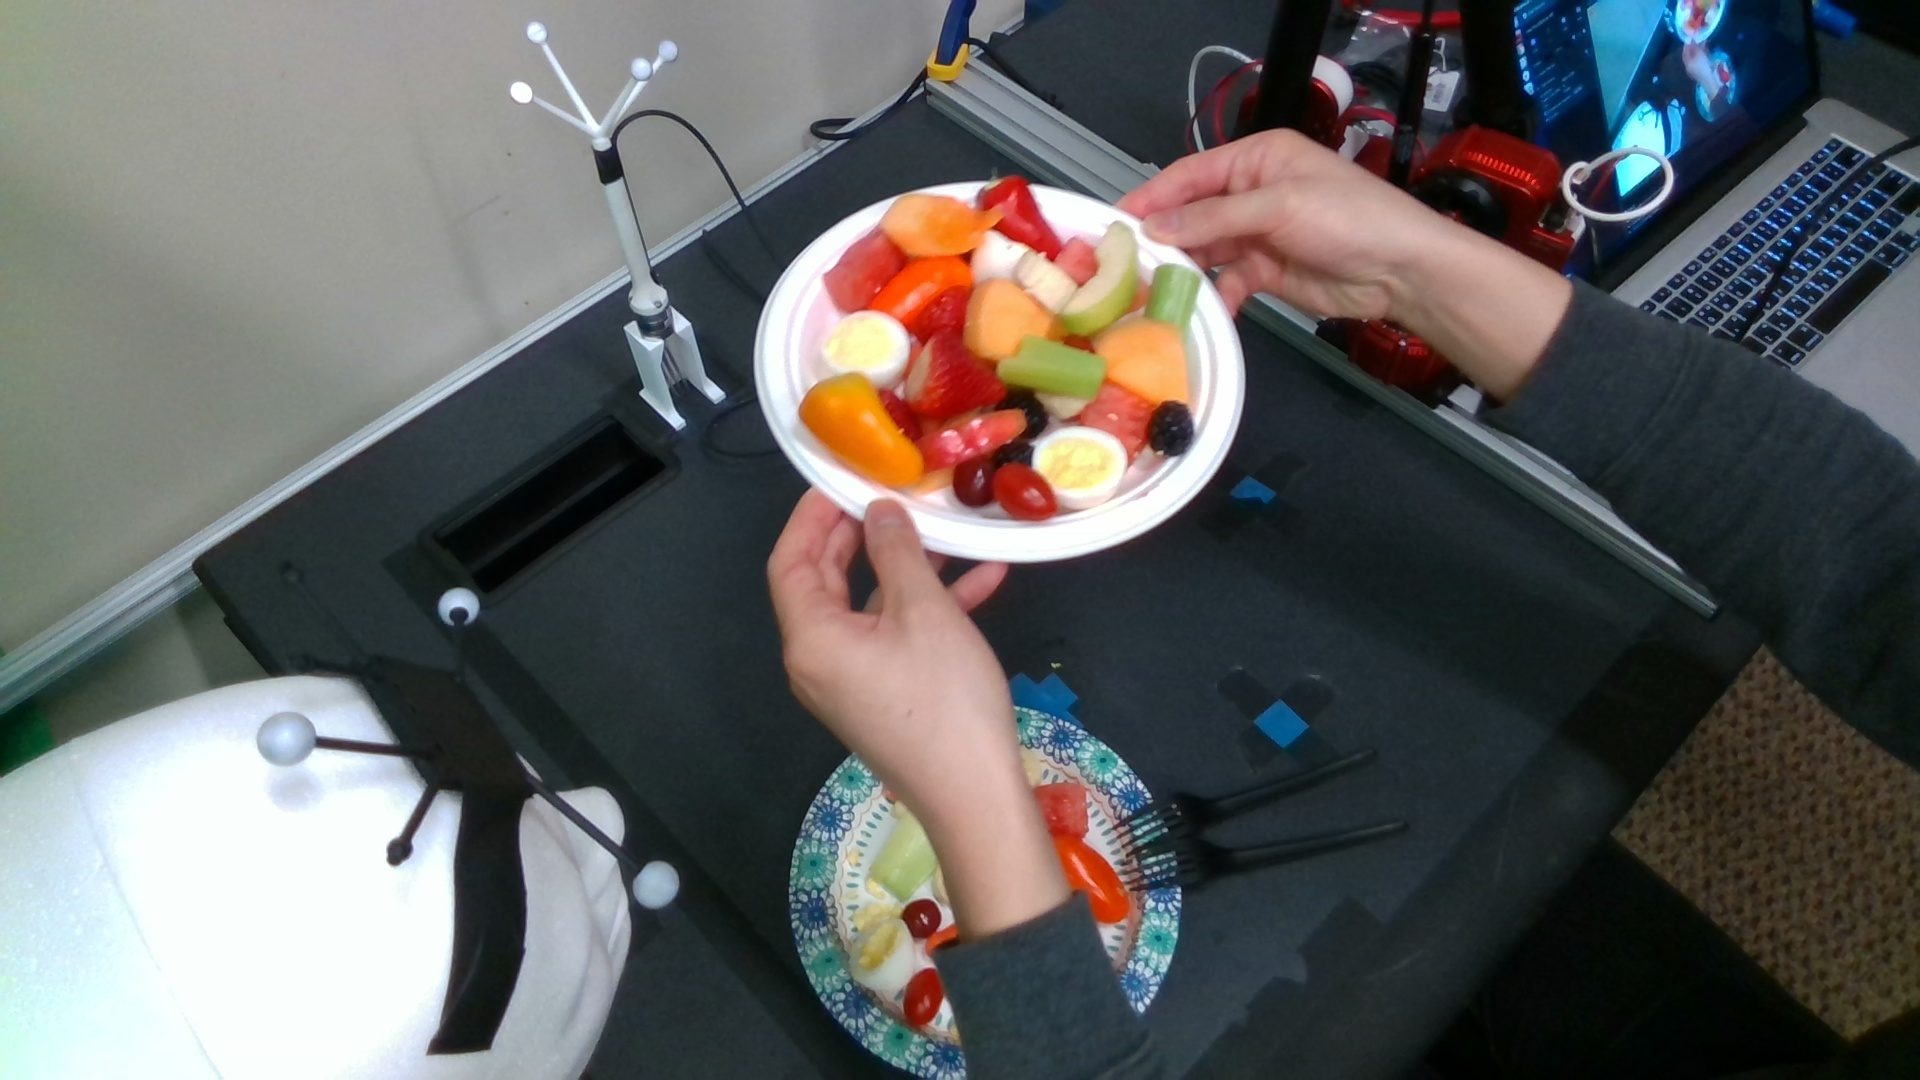apple: (1059, 222, 1138, 336), (915, 409, 1029, 469)
banana: (1015, 251, 1076, 313)
bell_pepper: (799, 375, 923, 488), (978, 175, 1063, 262), (868, 257, 973, 320)
blackberry: (1149, 402, 1193, 455)
cantalope: (880, 194, 1015, 258), (1097, 320, 1189, 405), (967, 280, 1060, 357)
celery: (1000, 338, 1105, 398), (1145, 265, 1200, 331)
cherry_tomato: (992, 464, 1058, 522), (905, 969, 948, 1026)
egg: (1033, 429, 1125, 510), (822, 313, 911, 390), (851, 918, 915, 993)
grape: (953, 458, 994, 506), (903, 899, 942, 938)
melon: (823, 227, 905, 309), (1083, 385, 1149, 463)
plate: (753, 182, 1242, 563)
strawberry: (906, 336, 1005, 414)
